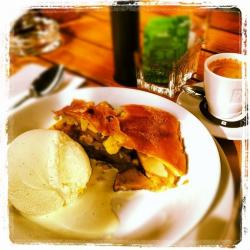apple_pie: (54, 98, 194, 195)
icecream: (4, 128, 96, 221)
